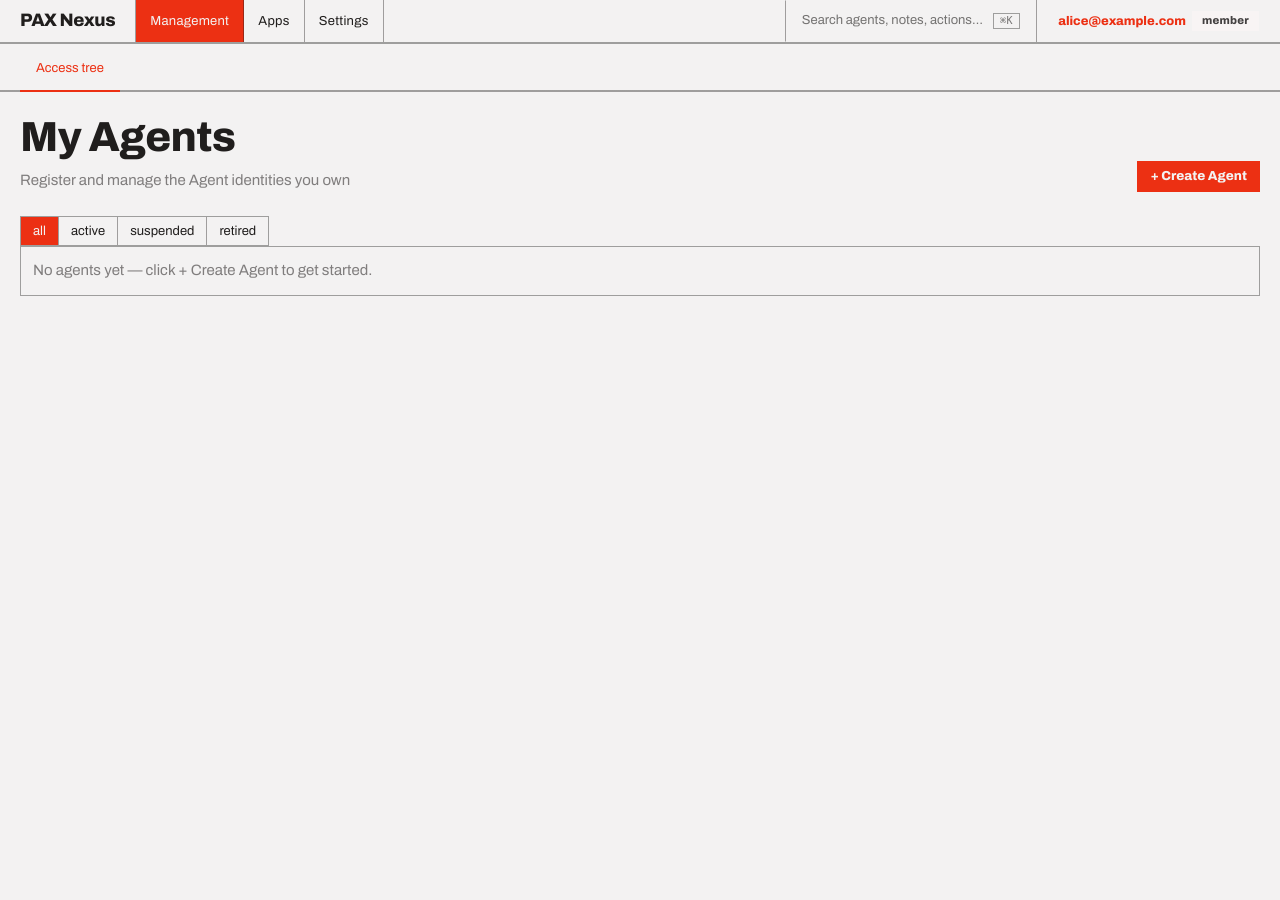
action keys without crypto.randomUUID (plain-HTTP origins) › opens Create Agent when crypto is entirely unavailable
Click the button "+ Create Agent" at (1199, 177), box [1138,161,1260,192]
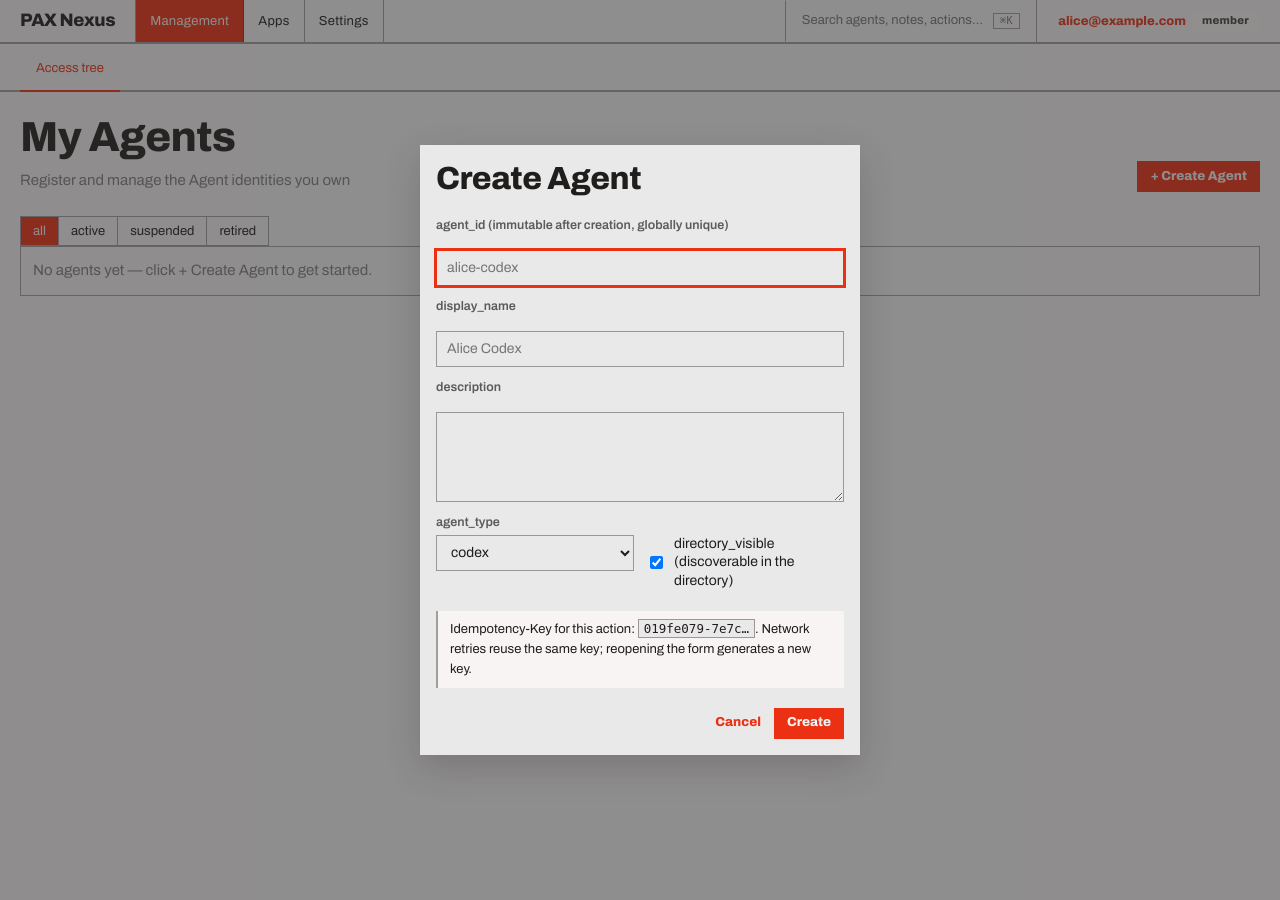
Now the field labelled "agent_id (immutable after creation, globally unique)" is shown, box [436,250,844,286]
